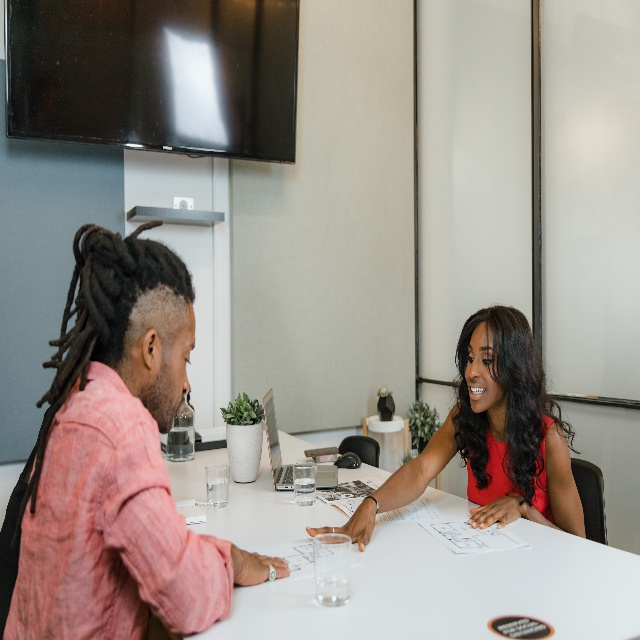Sin_guantes: (305, 496, 376, 553), (228, 538, 290, 587), (466, 492, 524, 530)
